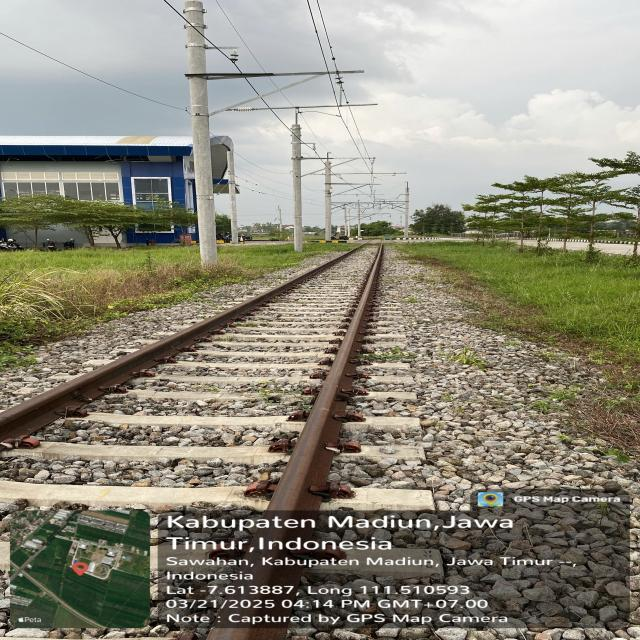rail-detection: (208, 249, 383, 640), (0, 252, 350, 440)
